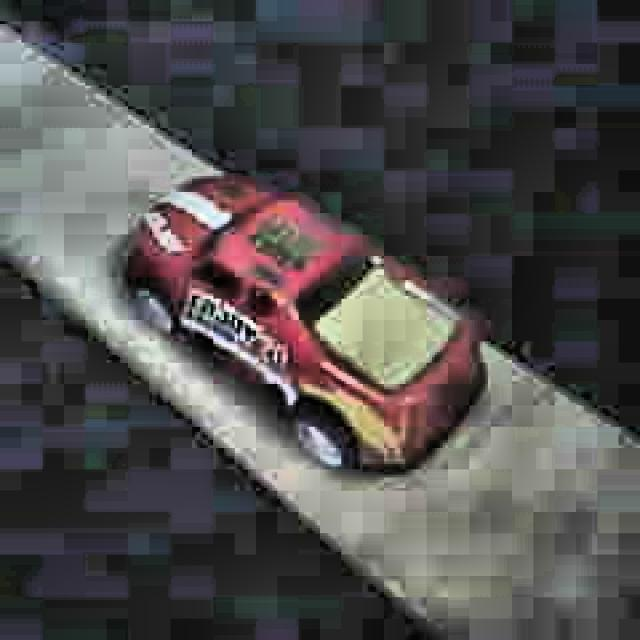car: (123, 168, 491, 481)
